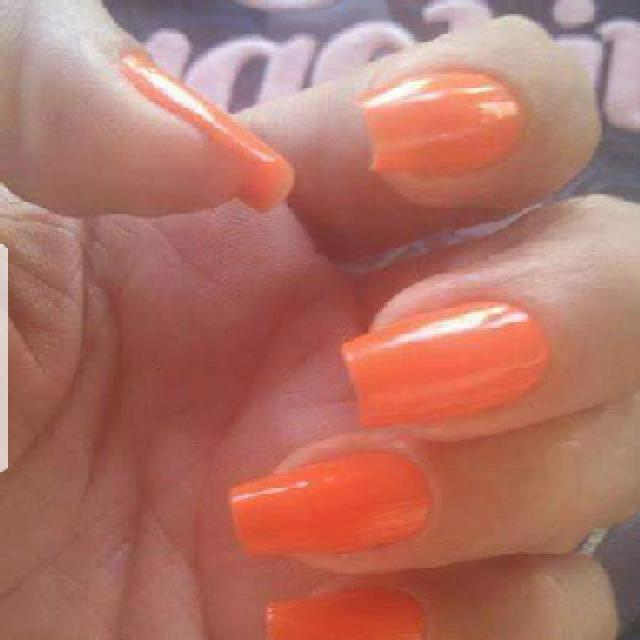Nail: (121, 49, 294, 211), (341, 300, 549, 428), (229, 451, 431, 555), (355, 69, 522, 173), (268, 589, 426, 640)
